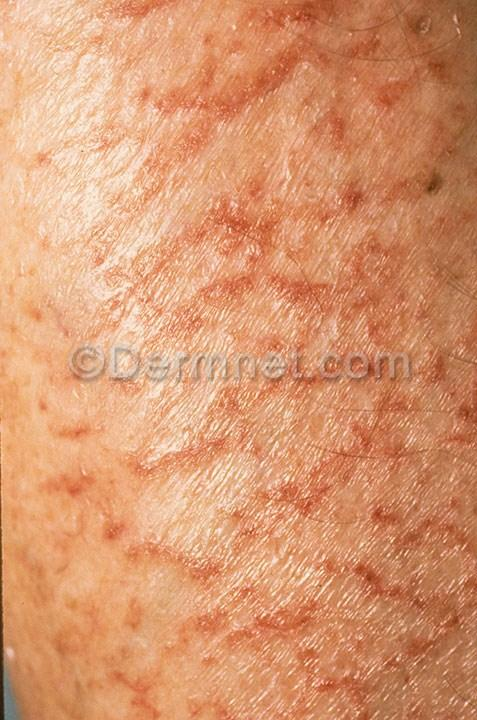Eczema: (183, 160, 297, 279), (300, 246, 399, 373), (247, 286, 329, 400), (220, 512, 322, 596), (101, 252, 180, 360), (109, 426, 217, 502), (407, 8, 472, 132), (337, 16, 422, 108), (384, 334, 476, 419), (21, 449, 100, 546), (385, 606, 465, 701), (402, 231, 469, 342), (257, 439, 345, 523), (15, 370, 106, 449), (208, 390, 328, 447), (11, 271, 93, 354), (210, 2, 342, 52), (357, 491, 422, 591), (128, 78, 230, 141), (188, 278, 254, 374), (226, 49, 309, 125), (105, 506, 217, 562), (393, 160, 477, 232), (14, 539, 101, 608), (318, 171, 390, 254), (28, 197, 113, 264), (120, 376, 210, 439), (312, 544, 373, 634), (173, 592, 263, 652), (319, 372, 387, 451), (430, 496, 475, 615), (286, 619, 359, 689), (57, 15, 126, 89), (383, 423, 457, 491), (101, 577, 162, 659), (117, 156, 172, 245), (108, 0, 193, 52), (183, 662, 263, 715), (107, 651, 178, 710), (13, 617, 87, 666), (25, 124, 80, 186), (267, 684, 364, 716), (303, 120, 358, 163), (365, 699, 477, 720), (174, 547, 223, 593), (39, 679, 102, 713)
